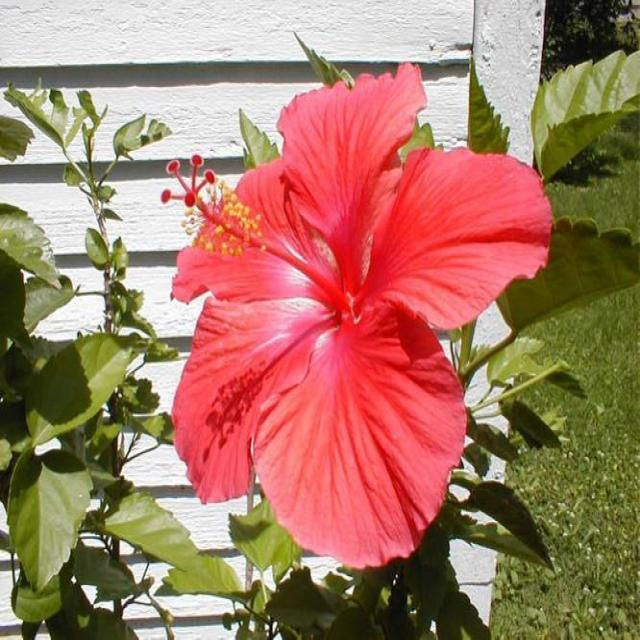hibiscus: (147, 37, 565, 592)
